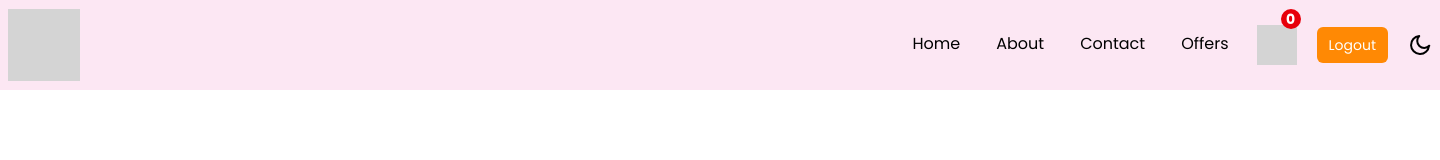
Should render header login button on click
Click the button "Logout" at coordinates (1352, 45), box left=1316, top=27, right=1388, bottom=63
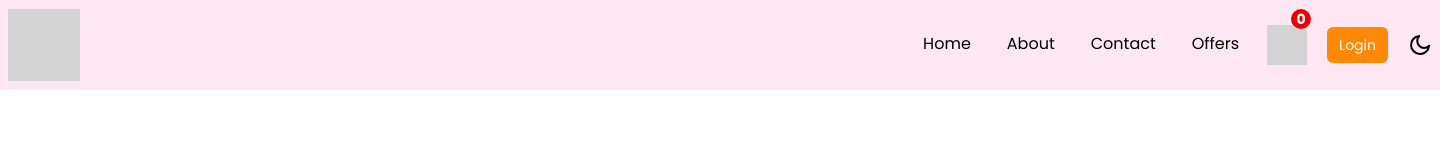
Check: the button "Login" is shown, box left=1327, top=27, right=1388, bottom=63
